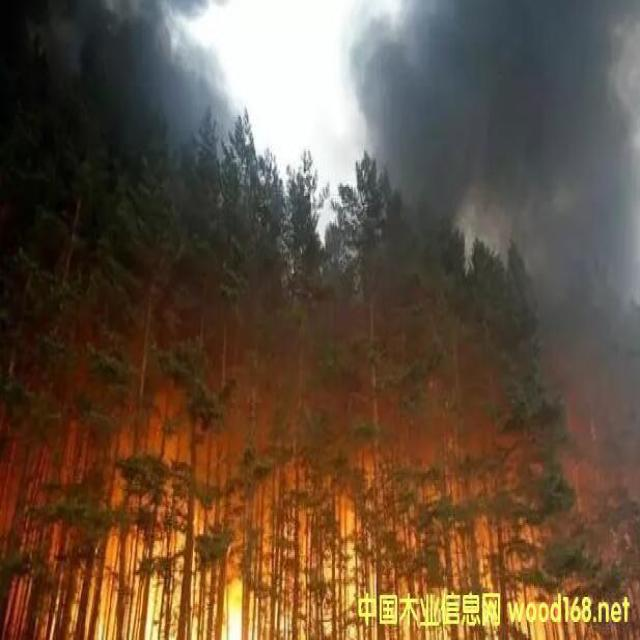fire: (26, 427, 620, 631)
smoke: (333, 2, 626, 228), (2, 6, 240, 184)
